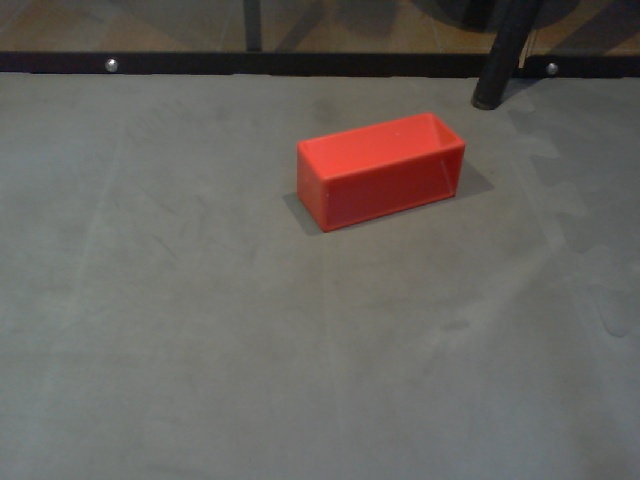RedSample: (292, 110, 467, 237)
